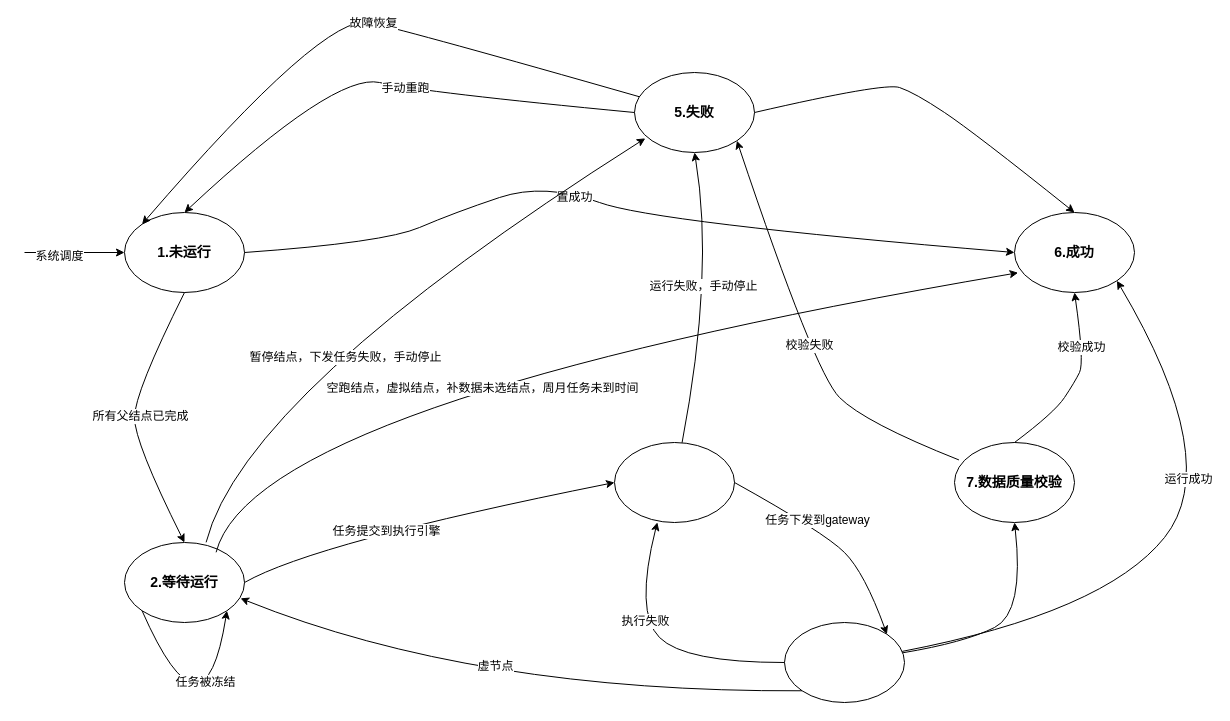
Some shapes in this 1230 by 721 pixel diagram are drawn without their labels. Each missing label, with the centre of its shape:
"3.等待资源" goes at pixel 674 482.
"4.运行中" goes at pixel 844 662.
